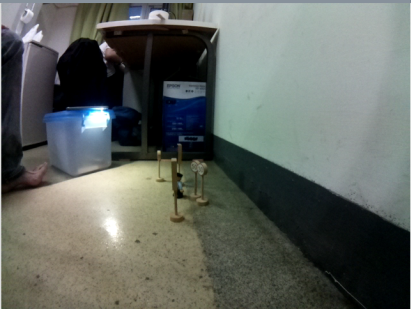Speed30: (197, 161, 209, 176)
Speed50: (190, 160, 199, 175)
